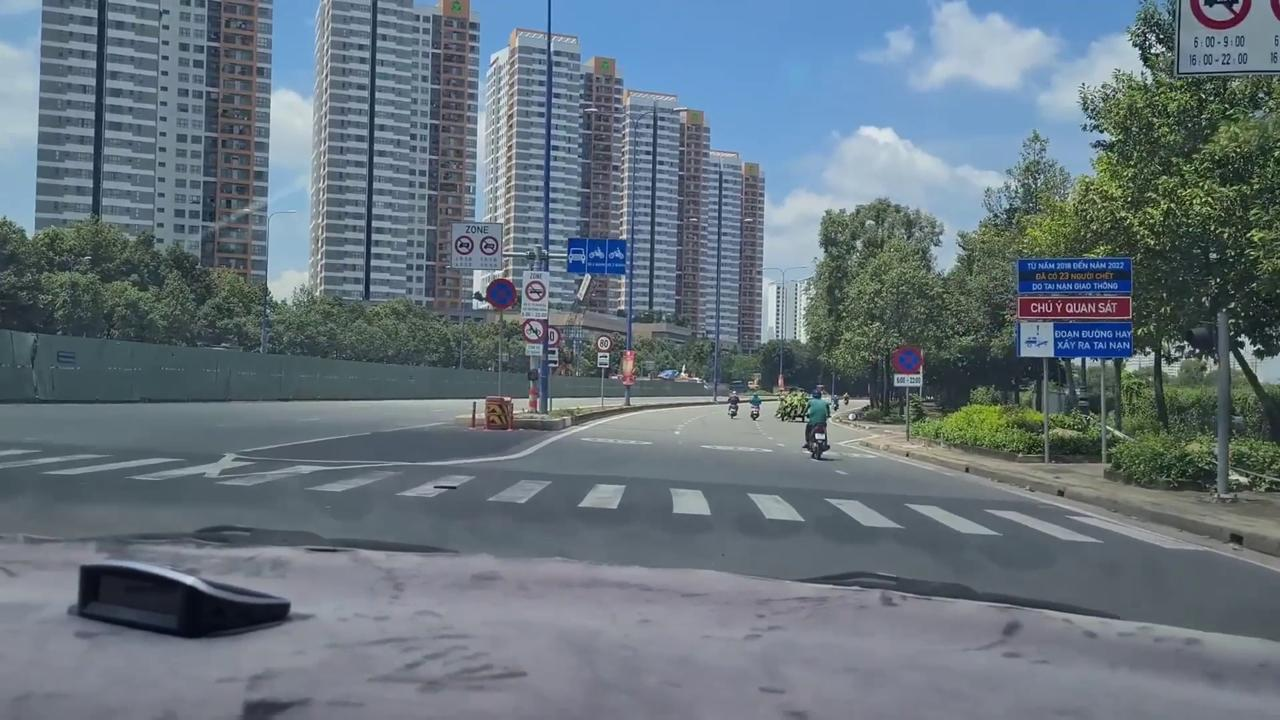Biển phụ: (893, 374, 922, 386), (597, 352, 610, 369), (525, 343, 543, 355)
Cấm cac phương tiện hoạt động trong khung giờ cố định: (450, 221, 504, 271), (521, 268, 548, 320)
Cấm dừng - Cấm đỗ: (486, 278, 518, 312), (891, 346, 924, 374)
Cấm xe máy: (522, 317, 547, 345)
Giới hạn tốc độ 80Km/h: (595, 332, 613, 352)
Khác: (1016, 257, 1137, 360)
Làn đường cho từng xe: (566, 236, 628, 276)
